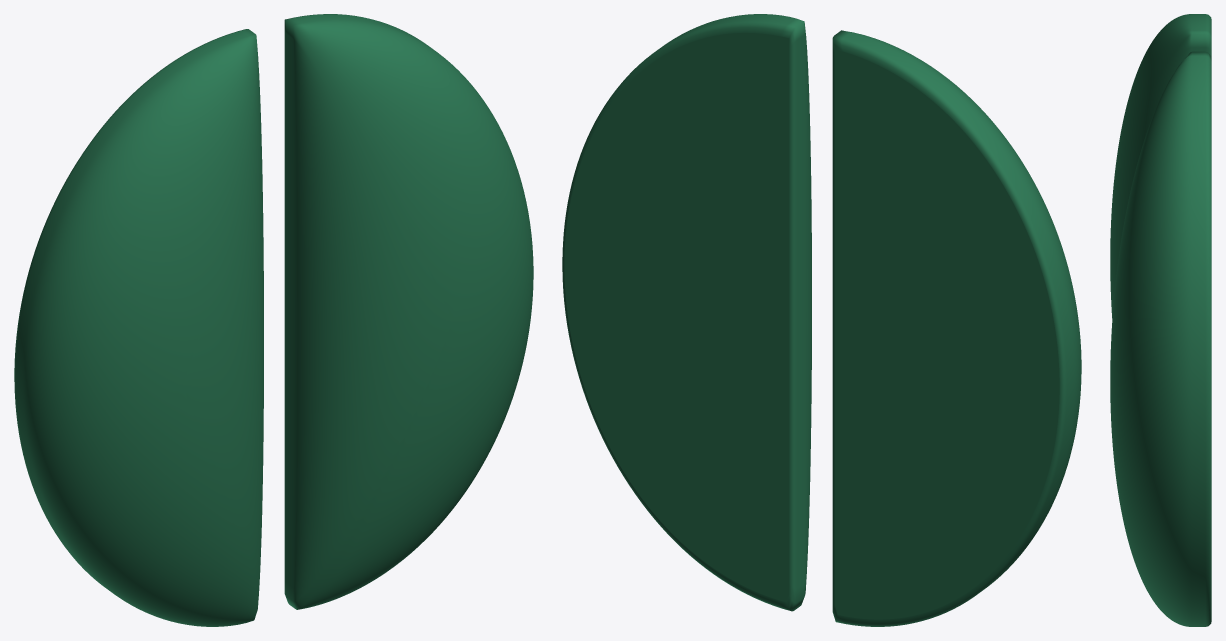
The model's file is matched-pair-v1.glb.
3 renders of one model, left to right at view 1: azimuth 30°, elevation 25°; view 2: azimuth 150°, elevation 25°; view 3: azimuth 270°, elevation 25°, orthographic. The views are drawn at different scales.
Parts seen in each view (by area): view 1: Split-Oval Cabochon 24x10x4mm.001, Split-Oval Cabochon 24x10x4mm; view 2: Split-Oval Cabochon 24x10x4mm, Split-Oval Cabochon 24x10x4mm.001; view 3: Split-Oval Cabochon 24x10x4mm.001, Split-Oval Cabochon 24x10x4mm.
Boxes of the visible parts, bbox=[...] form: Split-Oval Cabochon 24x10x4mm.001: bbox=[284, 14, 533, 609]; Split-Oval Cabochon 24x10x4mm: bbox=[14, 29, 263, 626]; Split-Oval Cabochon 24x10x4mm: bbox=[832, 30, 1081, 626]; Split-Oval Cabochon 24x10x4mm.001: bbox=[562, 14, 811, 611]; Split-Oval Cabochon 24x10x4mm.001: bbox=[1110, 51, 1211, 626]; Split-Oval Cabochon 24x10x4mm: bbox=[1110, 14, 1211, 317].
Bounding box in the file's own units: 0.0216 × 0.024 × 0.00398.
